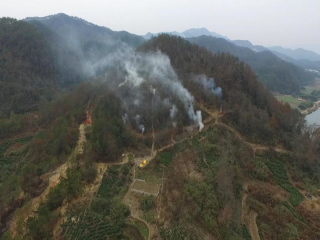smoke: (92, 43, 224, 135)
